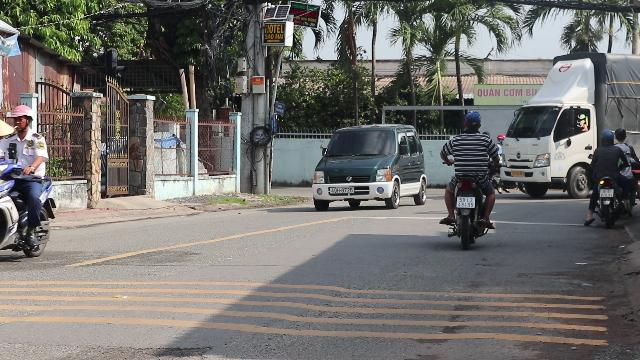helmet: (5, 104, 33, 136), (598, 129, 614, 145)
licenseplate: (456, 196, 476, 208), (600, 189, 612, 197)
motorcyclist: (0, 102, 58, 262), (438, 110, 500, 246), (584, 128, 638, 228)
nohelmet: (462, 111, 482, 131)
